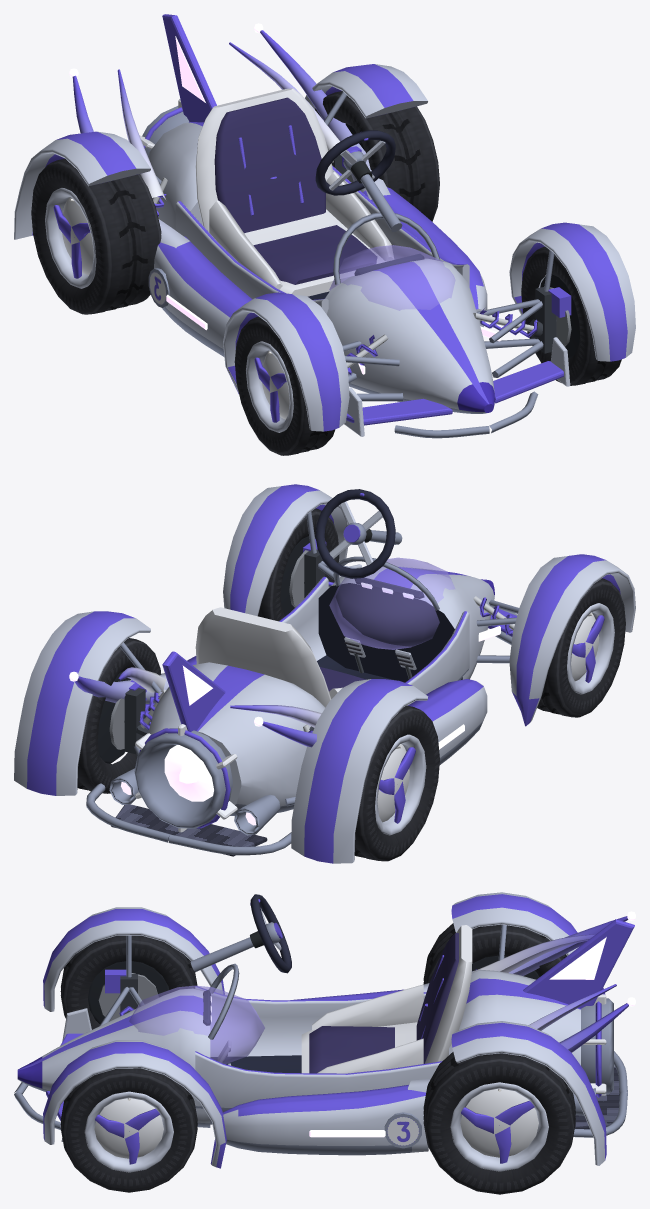
File: cometa.glb
3 views of the same model, one above another, from view 1: azimuth 30°, elevation 25°; view 2: azimuth 150°, elevation 25°; view 3: azimuth 270°, elevation 25° (orthographic). The views are drawn at different scales.
Parts seen in each view (by area): view 1: body_mesh, wheel_rr_mesh, wheel_fr_mesh, wheel_rl_mesh, wheel_fl_mesh, steering_mesh; view 2: body_mesh, wheel_rr_mesh, wheel_fr_mesh, wheel_rl_mesh, steering_mesh, wheel_fl_mesh; view 3: body_mesh, wheel_rl_mesh, wheel_fl_mesh, wheel_fr_mesh, wheel_rr_mesh, steering_mesh.
Part boxes in pixels (x1=…): body_mesh: x1=14, y1=14, x2=635, y2=438; wheel_rr_mesh: x1=31, y1=158, x2=161, y2=314; wheel_fr_mesh: x1=234, y1=316, x2=335, y2=455; wheel_rl_mesh: x1=315, y1=91, x2=439, y2=221; wheel_fl_mesh: x1=521, y1=246, x2=621, y2=385; steering_mesh: x1=315, y1=130, x2=395, y2=195; body_mesh: x1=14, y1=484, x2=635, y2=863; wheel_rr_mesh: x1=354, y1=705, x2=439, y2=861; wheel_fr_mesh: x1=537, y1=578, x2=625, y2=717; wheel_rl_mesh: x1=77, y1=638, x2=161, y2=793; steering_mesh: x1=315, y1=489, x2=395, y2=578; wheel_fl_mesh: x1=258, y1=508, x2=339, y2=621; body_mesh: x1=14, y1=892, x2=635, y2=1168; wheel_rl_mesh: x1=423, y1=1052, x2=575, y2=1194; wheel_fl_mesh: x1=60, y1=1068, x2=197, y2=1192; wheel_fr_mesh: x1=60, y1=935, x2=197, y2=1029; wheel_rr_mesh: x1=423, y1=923, x2=566, y2=984; steering_mesh: x1=250, y1=894, x2=291, y2=973.
Bounding box in the file's own units: 1.47 × 0.9616 × 2.45.
Materials: 12 (3 with a texture image).
